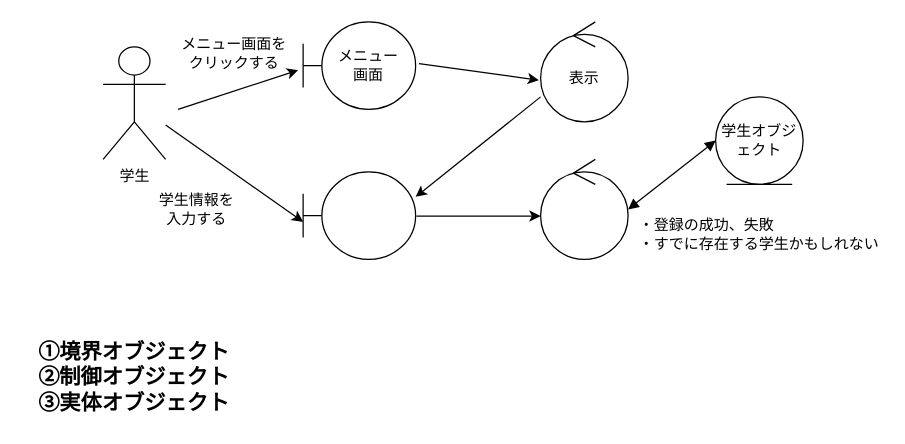
The diagram is 905 pixels wide and 444 high, and some of its shapes have lost their labels. The shapes that lost their labels are listed below. From the top down, each one's box as (x1, y1, x2, y2) in pixels, then its label:
(302, 171, 416, 259): 学生登録 画面
(539, 158, 628, 259): 学生登録
